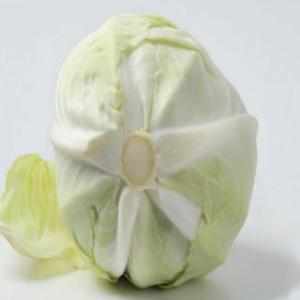cabbage: (47, 8, 259, 294)
